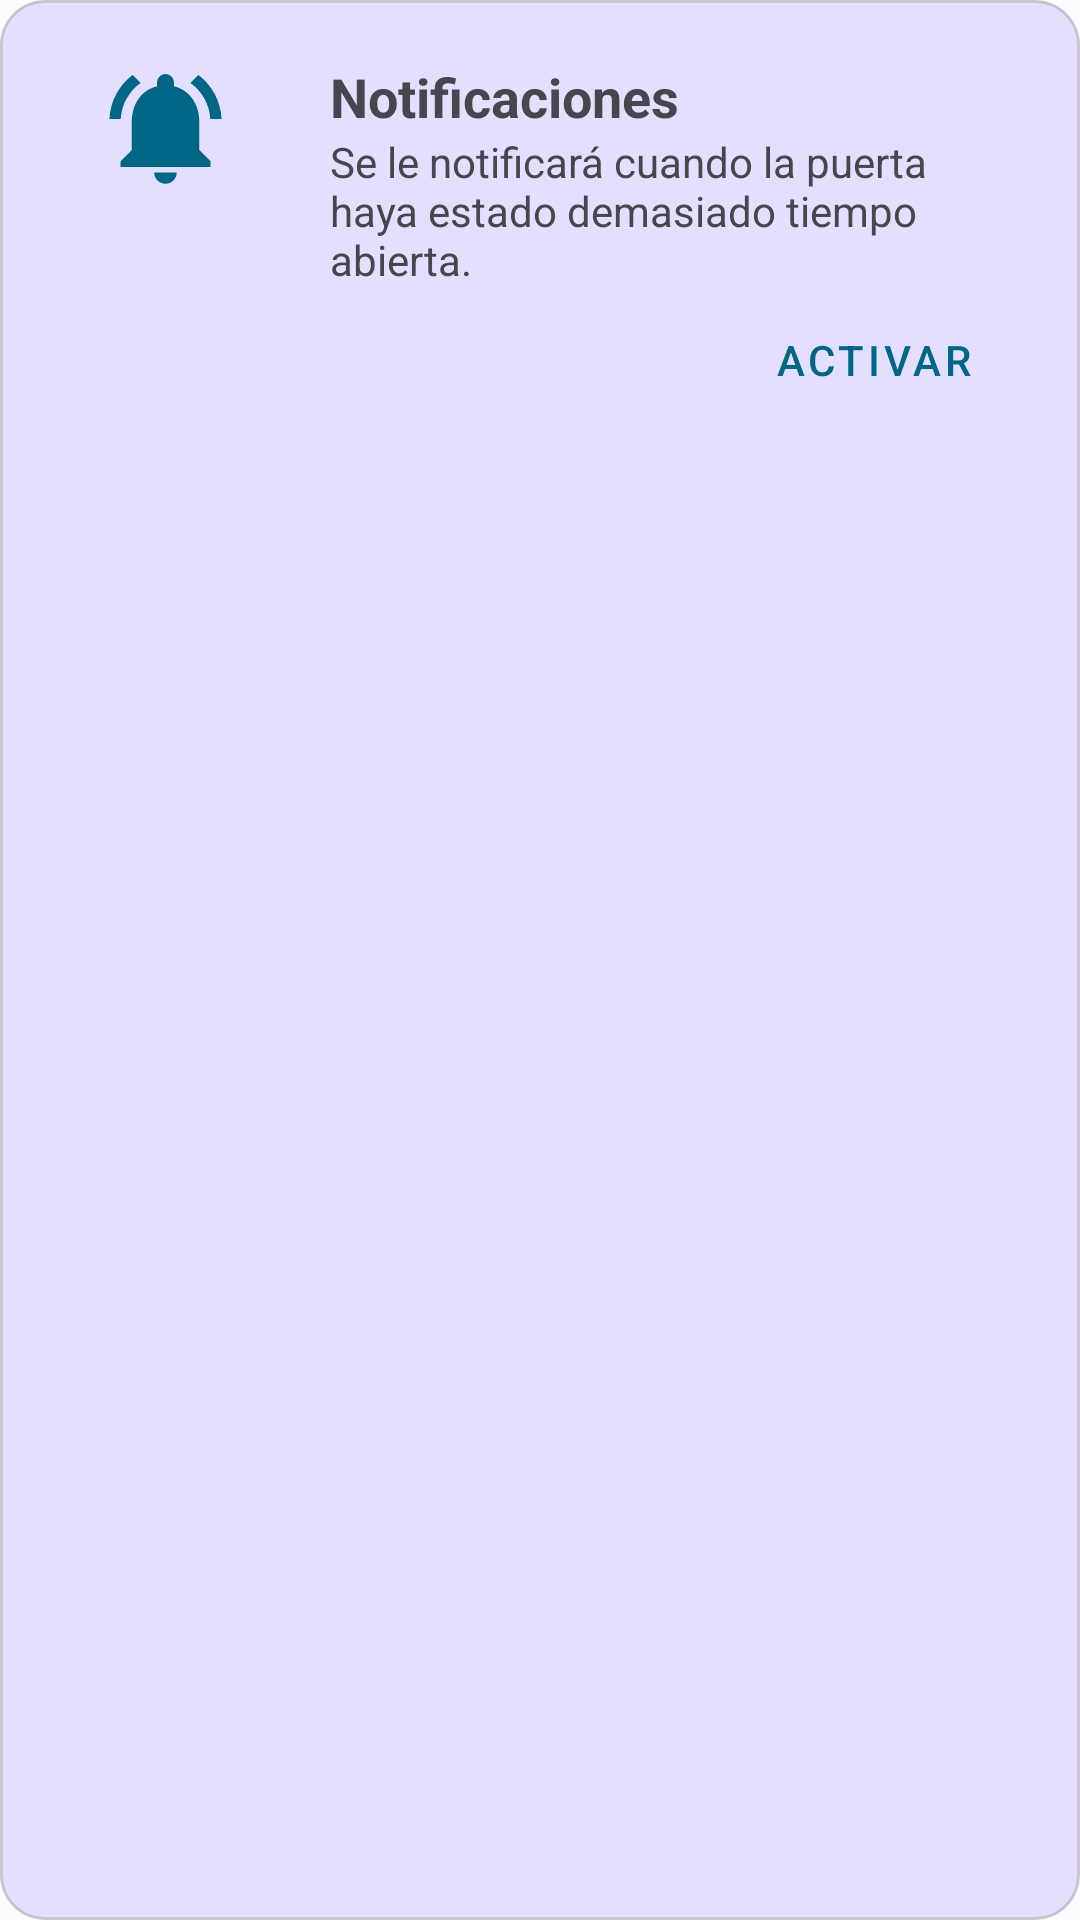

Icon click points for this 1080w x 1920h phone screenshot, format point (x, y):
notification: point (165, 129)
